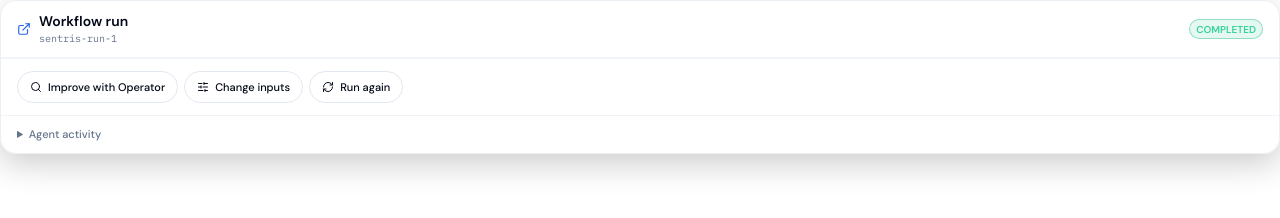
Test: OperatorRunActivity › loads terminal agent traces only when their activity is expanded
The width and height of the screenshot is (1280, 218).
Step 1. Click the heading "Agent activity" → [65, 134], box [29,127,101,141]
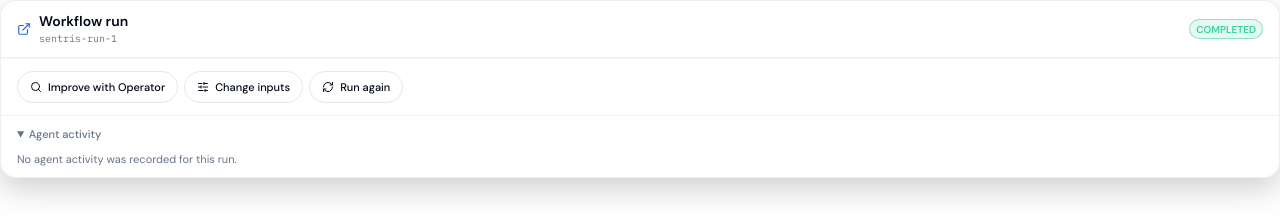
Expected: the text "No agent activity was recorded for this run." is shown, [17,152,237,166]
